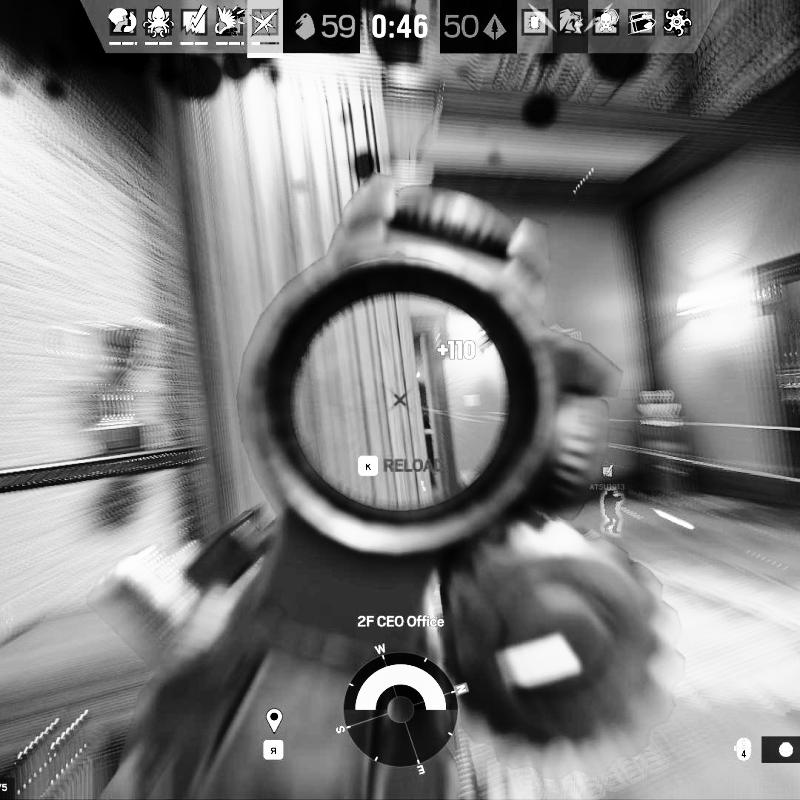Friend_label: (590, 463, 628, 492)
